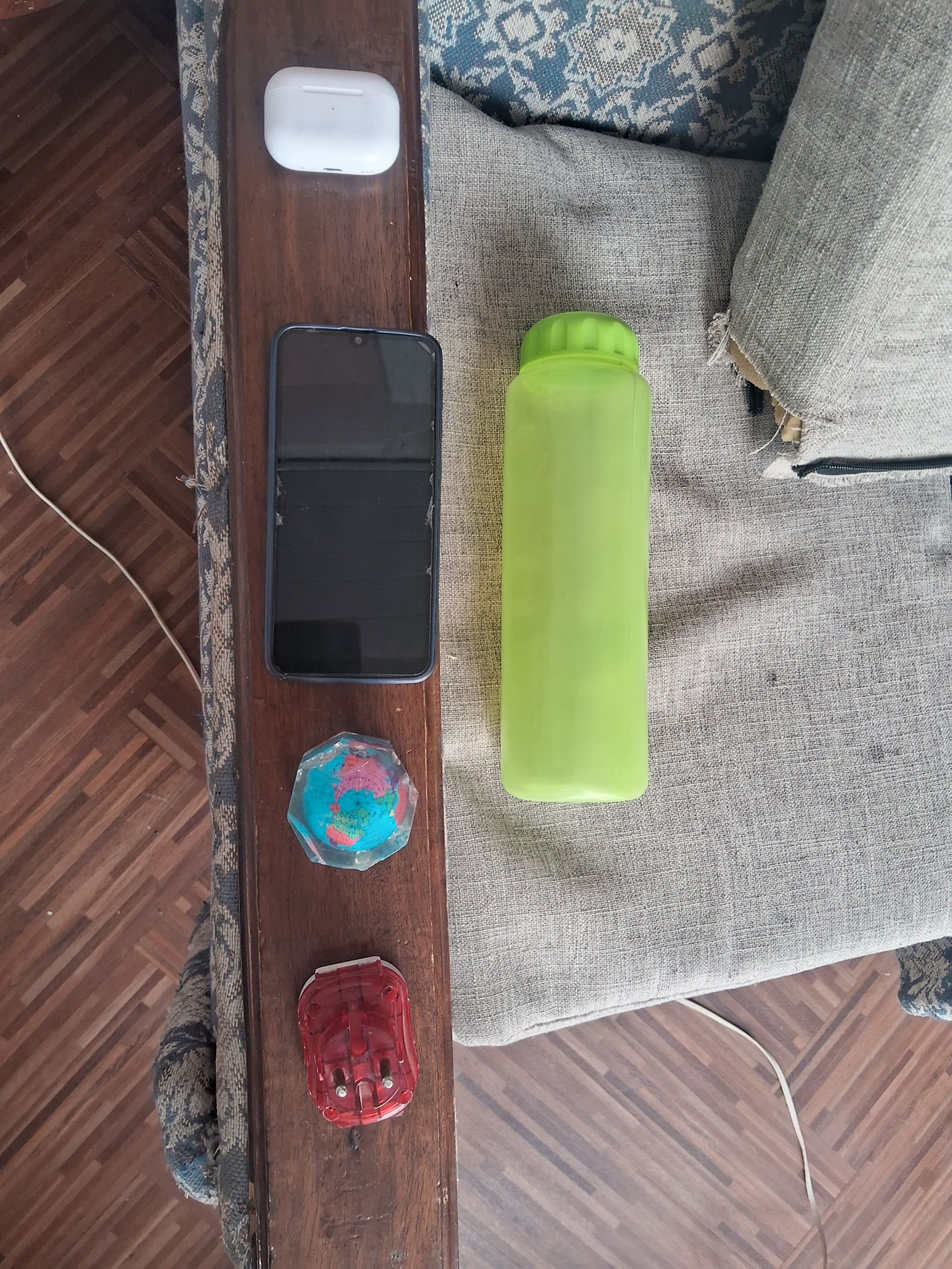Air_pod: (260, 62, 407, 180)
Multi_adapter: (286, 949, 425, 1133)
Smart_phone: (258, 318, 453, 691)
Water_bottle: (493, 306, 657, 806)
world_globe: (283, 720, 424, 879)
